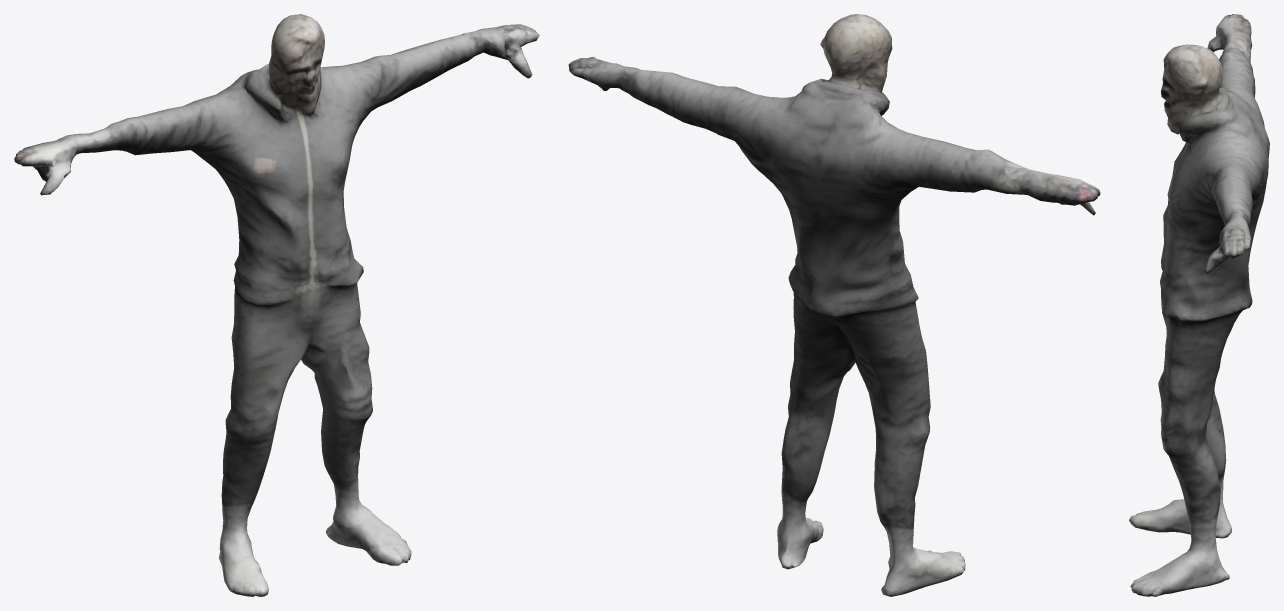
File: zombie_runner.glb
3 renders of one model, left to right at view 1: azimuth 30°, elevation 25°; view 2: azimuth 150°, elevation 25°; view 3: azimuth 270°, elevation 25°, orthographic. The views are drawn at different scales.
Parts seen in each view (by area): view 1: zombie_runner; view 2: zombie_runner; view 3: zombie_runner.
Boxes of the visible parts, left/top/right/bottom form: zombie_runner: left=14, top=14, right=539, bottom=596; zombie_runner: left=568, top=14, right=1100, bottom=596; zombie_runner: left=1129, top=14, right=1269, bottom=596.
Size of the model in its own units: 0.9991 by 0.9988 by 0.2487.
Materials: 1 (1 with a texture image).
